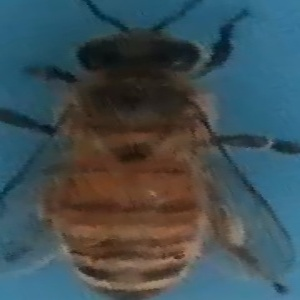bee: (10, 2, 297, 300)
